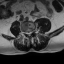CCS_normal: (28, 30, 30, 38)
LFS_normal: (31, 28, 33, 34)
LLS_normal: (30, 29, 31, 36)
RFS_normal: (25, 30, 26, 36)
RLS_normal: (26, 30, 28, 36)
